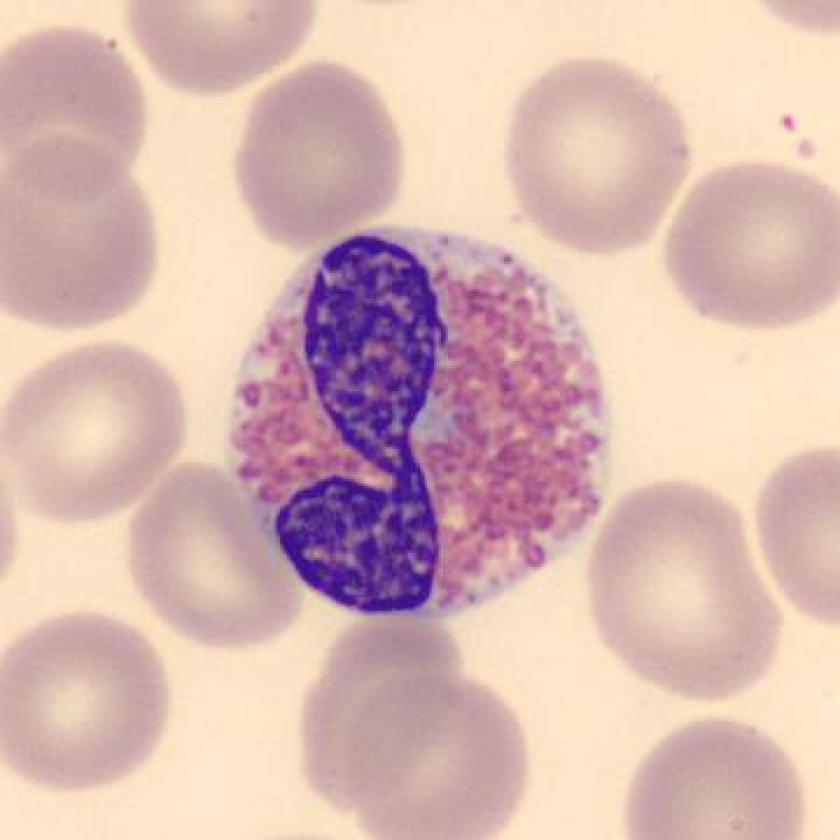eosinophil: (214, 214, 634, 635)
